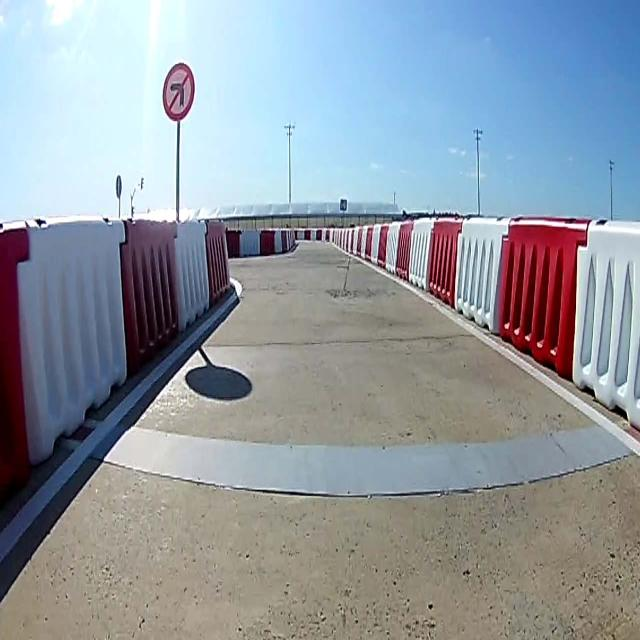soladonulmez: (162, 61, 195, 120)
